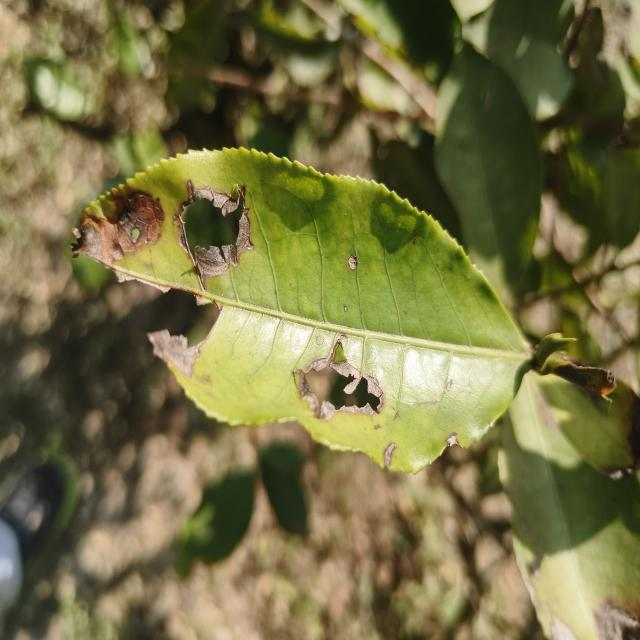Leaf: (73, 148, 528, 472), (499, 374, 640, 640), (434, 44, 542, 288), (534, 374, 640, 479), (177, 471, 254, 574), (24, 58, 93, 121)
